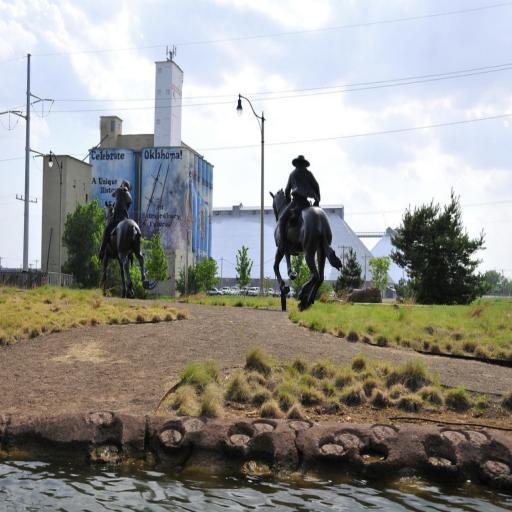horse: (270, 188, 344, 306), (101, 200, 150, 296)
